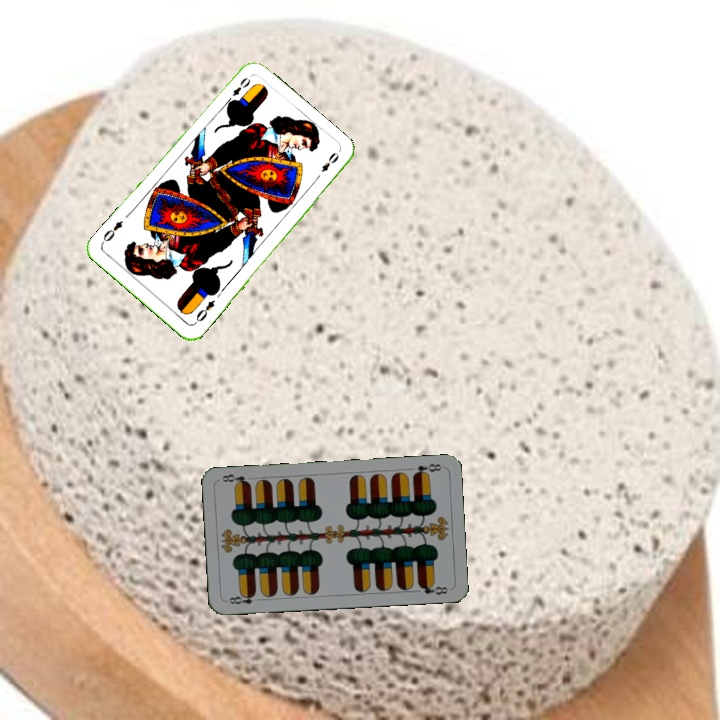E8: (223, 589, 264, 607), (409, 459, 444, 479)
EO: (222, 73, 253, 107), (190, 296, 218, 327)
